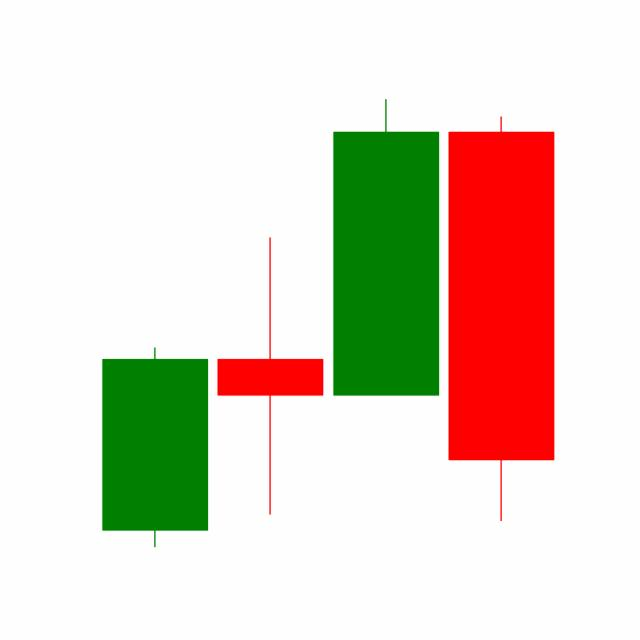Marubozu: (328, 95, 444, 397)
